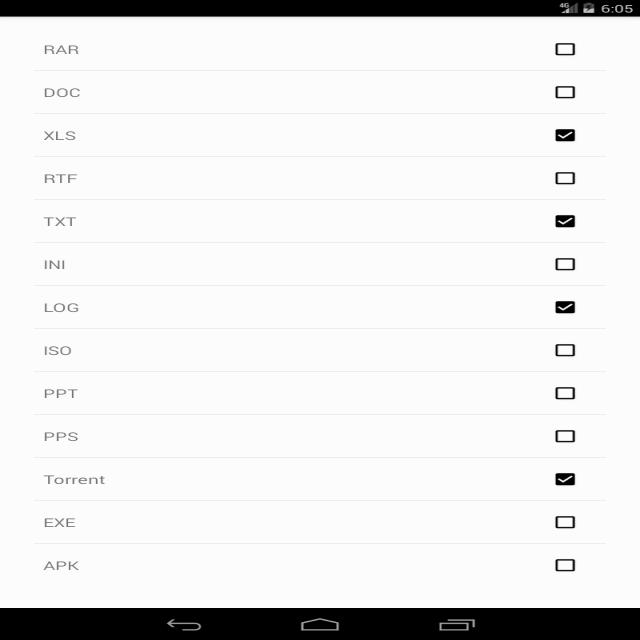CheckBox: (547, 383, 581, 405), (550, 125, 580, 146), (552, 295, 580, 317), (550, 170, 584, 188), (550, 212, 580, 230), (552, 83, 579, 103), (550, 470, 580, 488)
TextView: (35, 210, 87, 232), (36, 127, 85, 147), (40, 41, 85, 62), (38, 339, 78, 360), (36, 513, 84, 530), (38, 426, 82, 444)
